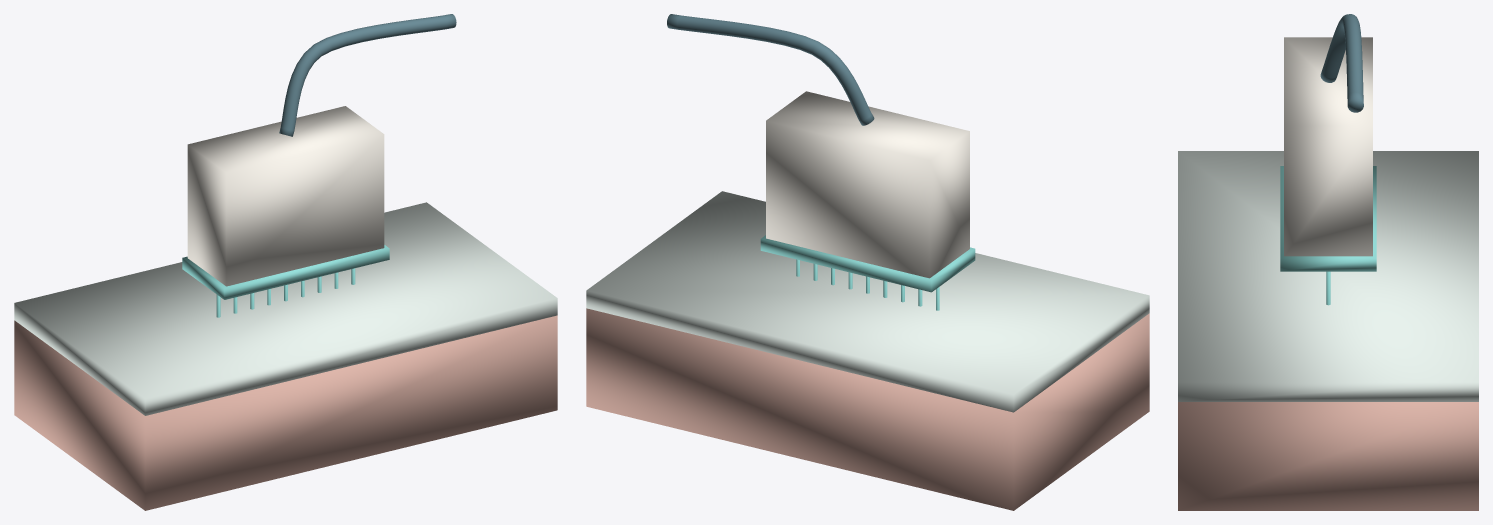
Rendered from assessment-ultrasound.glb.
The picture shows the model from 3 angles, left to right: view 1: azimuth 30°, elevation 25°; view 2: azimuth 150°, elevation 25°; view 3: azimuth 270°, elevation 25°; orthographic projection. The views are drawn at different scales.
Visible parts, largest first — view 1: static #c7ddd2, static #bb7564, static #eee5d3, static #49bdb4, static #203c48; view 2: static #c7ddd2, static #bb7564, static #eee5d3, static #49bdb4, static #203c48; view 3: static #c7ddd2, static #bb7564, static #eee5d3, static #203c48, static #49bdb4.
Boxes of the visible parts, x1=… form: static #c7ddd2: x1=14, y1=202, x2=557, y2=415; static #bb7564: x1=14, y1=315, x2=557, y2=510; static #eee5d3: x1=187, y1=106, x2=384, y2=286; static #49bdb4: x1=182, y1=245, x2=389, y2=317; static #203c48: x1=279, y1=14, x2=456, y2=136; static #c7ddd2: x1=586, y1=191, x2=1149, y2=412; static #bb7564: x1=586, y1=308, x2=1149, y2=510; static #eee5d3: x1=766, y1=91, x2=969, y2=278; static #49bdb4: x1=760, y1=235, x2=975, y2=310; static #203c48: x1=667, y1=14, x2=874, y2=125; static #c7ddd2: x1=1178, y1=151, x2=1478, y2=401; static #bb7564: x1=1178, y1=402, x2=1478, y2=510; static #eee5d3: x1=1284, y1=37, x2=1372, y2=256; static #203c48: x1=1320, y1=14, x2=1363, y2=112; static #49bdb4: x1=1280, y1=166, x2=1376, y2=305.
Bounding box in the file's own units: 0.3 × 0.2469 × 0.165.
